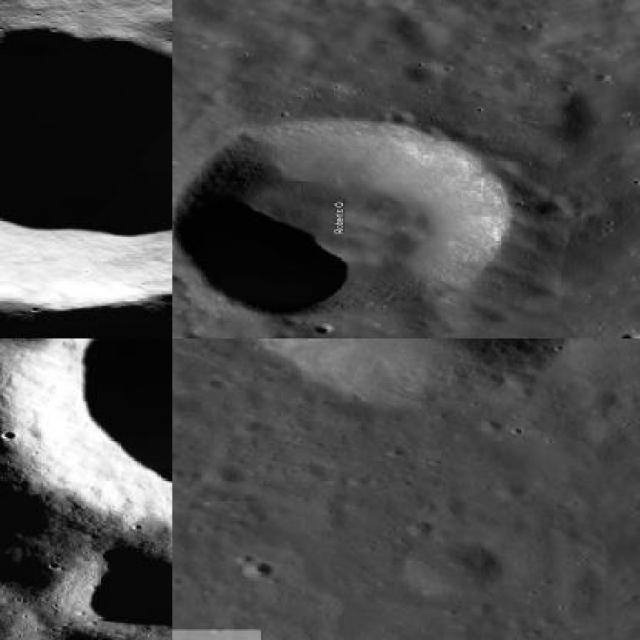crater: (172, 117, 511, 315), (0, 25, 171, 306), (11, 338, 171, 554), (242, 339, 572, 403), (66, 544, 171, 630), (403, 542, 506, 600), (243, 560, 274, 580)
